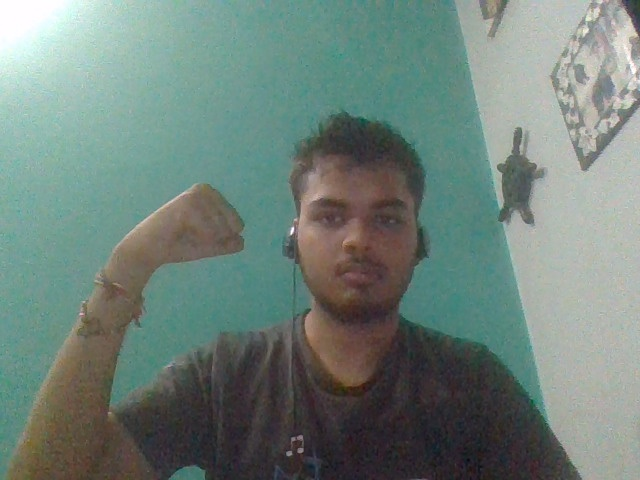goodbye: (112, 182, 247, 272)
